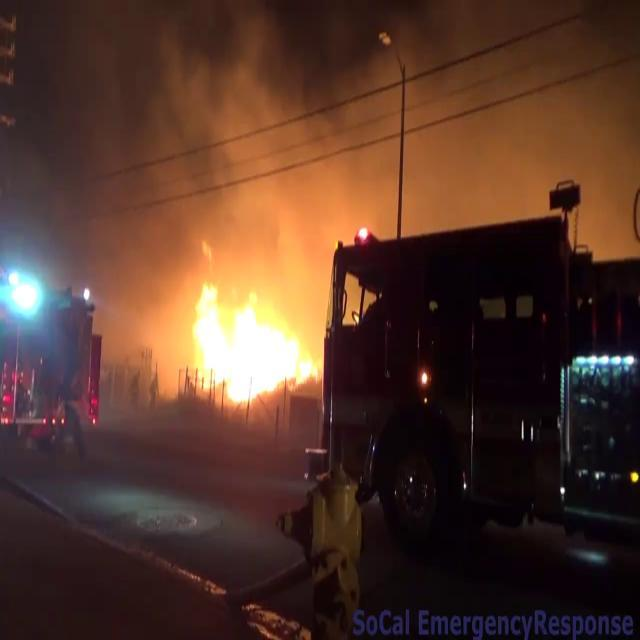Fire: (184, 267, 318, 407)
Smoke: (64, 8, 350, 397), (323, 0, 640, 257)
